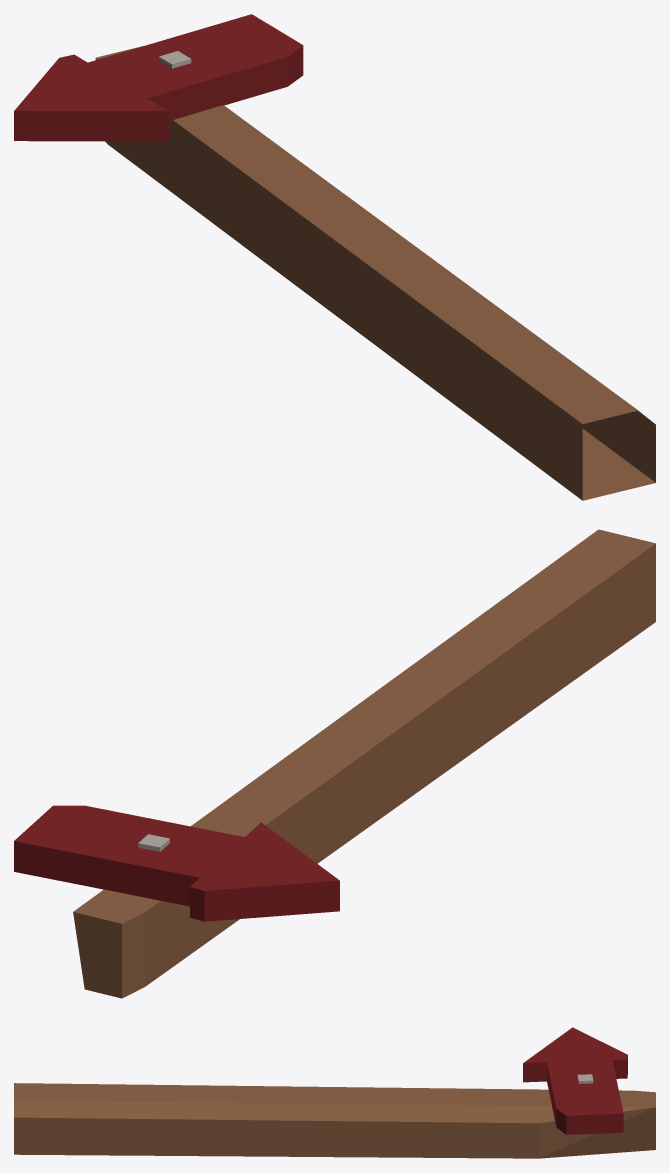
The model's file is Arrow Signboard 01 Left.FBX.
3 views of the same model, one above another, from view 1: azimuth 30°, elevation 25°; view 2: azimuth 150°, elevation 25°; view 3: azimuth 270°, elevation 25° (orthographic). The views are drawn at different scales.
Parts seen in each view (by area): view 1: Arrow Signboard 01 Left; view 2: Arrow Signboard 01 Left; view 3: Arrow Signboard 01 Left.
Boxes of the visible parts, box(x1,y1,x2,y2) form: Arrow Signboard 01 Left: box(14, 14, 655, 500); Arrow Signboard 01 Left: box(14, 529, 655, 998); Arrow Signboard 01 Left: box(14, 1027, 655, 1158).
Bounding box in the file's own units: 42.45 × 130 × 15.31.
